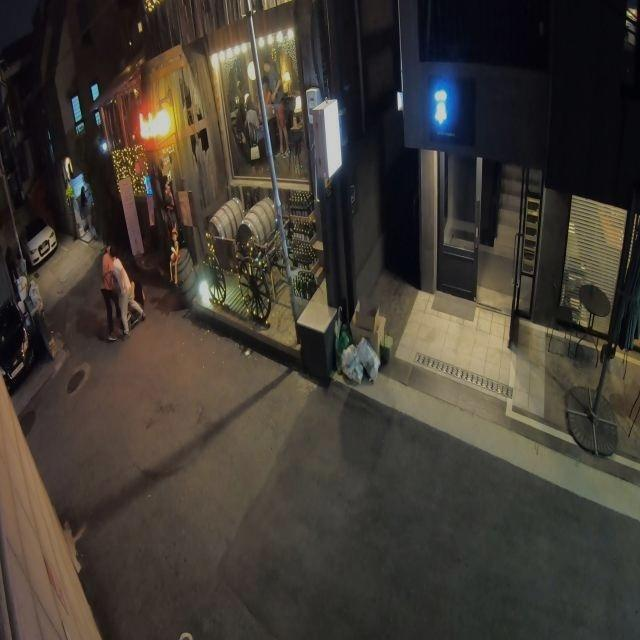fight: (92, 242, 150, 338)
